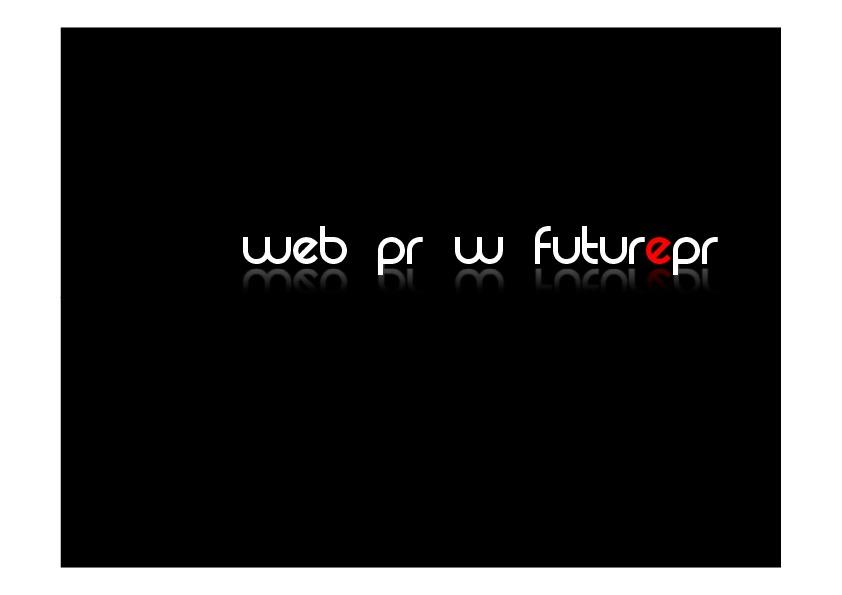title: (229, 202, 735, 290)
